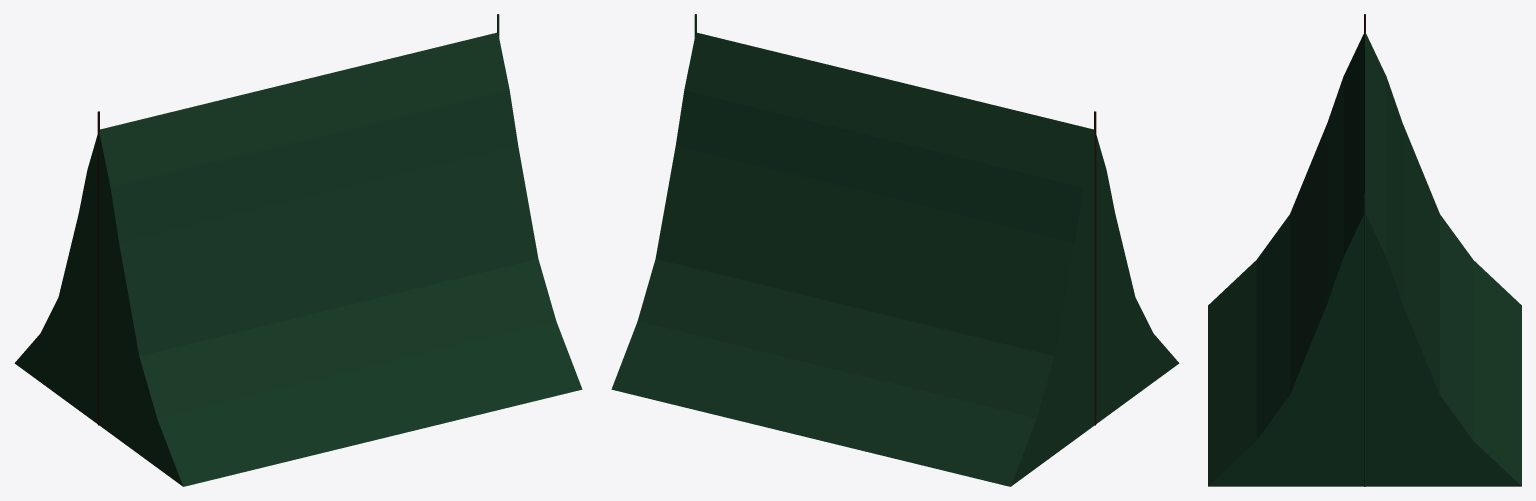
File: tent.glb
The picture shows the model from 3 angles, left to right: view 1: azimuth 30°, elevation 25°; view 2: azimuth 150°, elevation 25°; view 3: azimuth 270°, elevation 25°; orthographic projection. The views are drawn at different scales.
Parts seen in each view (by area): view 1: Cube; view 2: Cube; view 3: Cube.
Part boxes in pixels (box(x1,y1,x2,y2)): Cube: box(14, 14, 582, 486); Cube: box(611, 14, 1179, 486); Cube: box(1208, 14, 1521, 486).
Size of the model in its own units: 4.02 by 3 by 2.93.
1 material, 1 textured.
